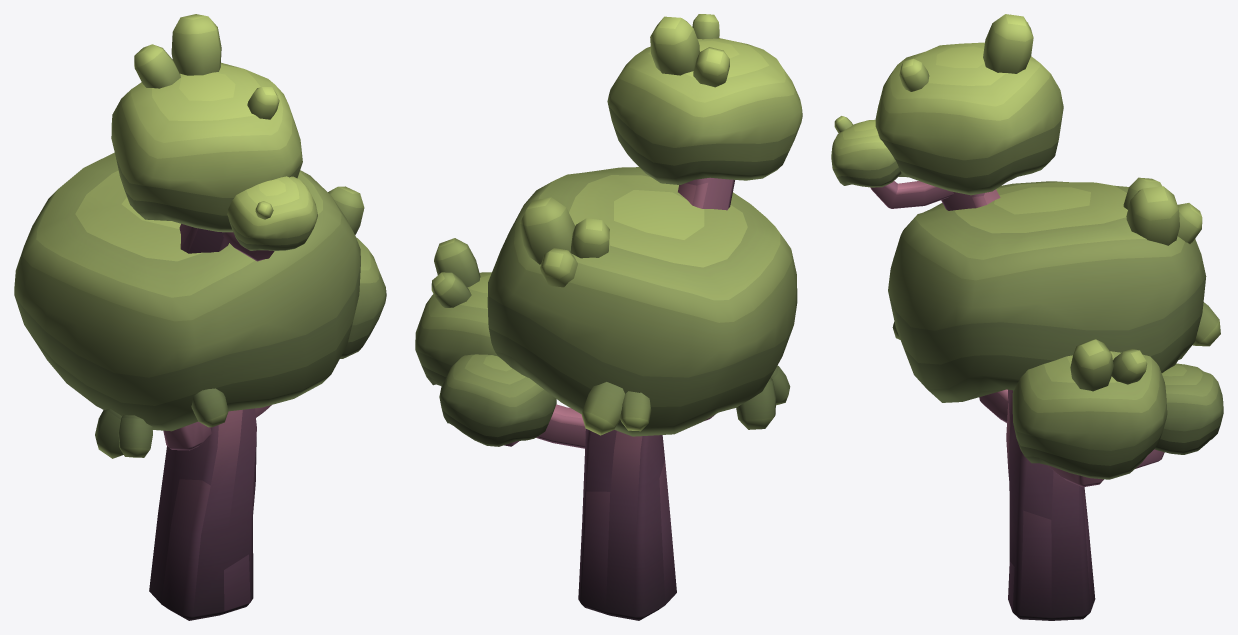
The model's file is grassland_tree_col1_2.fbx.
The picture shows the model from 3 angles, left to right: view 1: azimuth 30°, elevation 25°; view 2: azimuth 150°, elevation 25°; view 3: azimuth 270°, elevation 25°; orthographic projection. The views are drawn at different scales.
Visible parts, largest first — view 1: grassland_tree_col1_2; view 2: grassland_tree_col1_2; view 3: grassland_tree_col1_2.
Boxes of the visible parts, bbox=[...] form: grassland_tree_col1_2: bbox=[14, 14, 386, 620]; grassland_tree_col1_2: bbox=[415, 14, 802, 620]; grassland_tree_col1_2: bbox=[831, 14, 1223, 620].
Size of the model in its own units: 701 by 1182 by 729.
